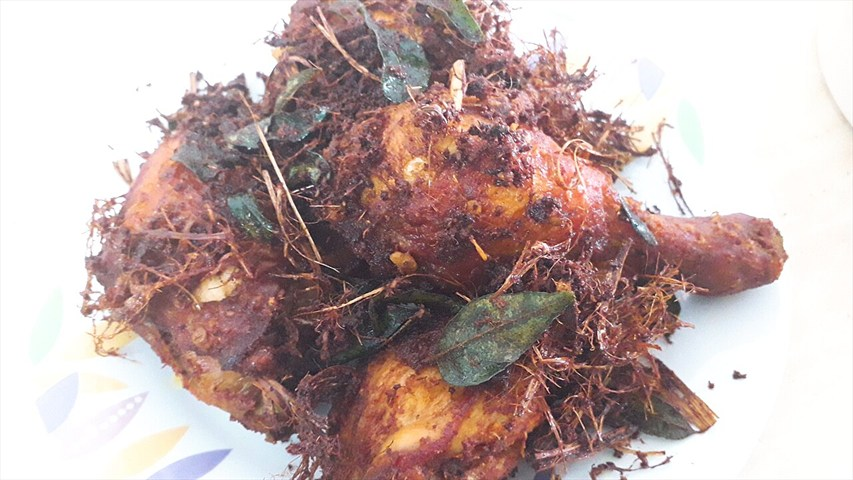Ayam Goreng: (157, 59, 686, 453)
